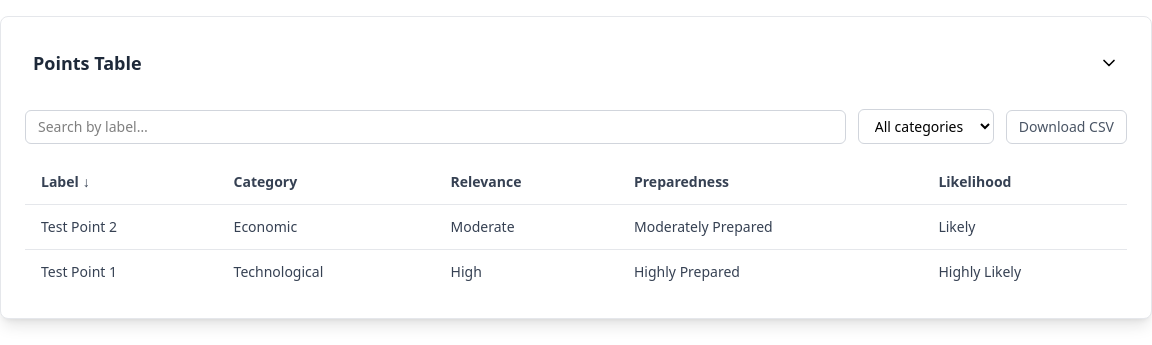
Scenario: PointsTable › Filtering › should filter rows by category
Select "Economic" in the dropdown named "Filter by category" at [926, 126], box x1=858 y1=109 x2=994 y2=144
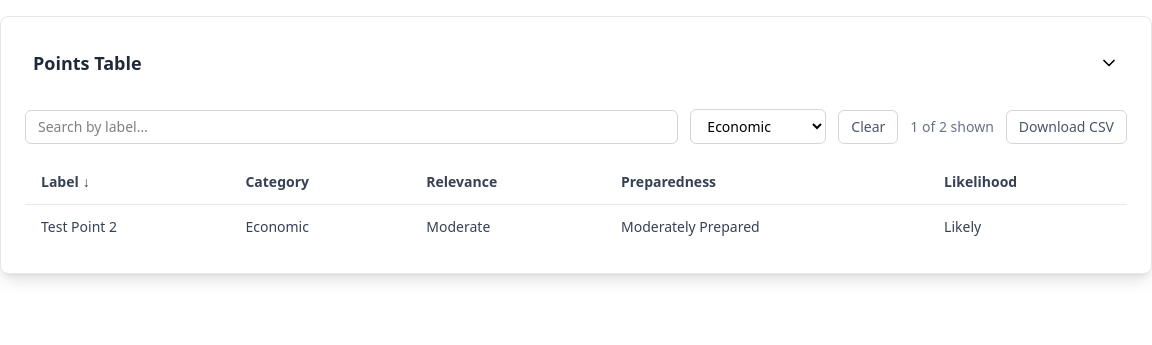
Expected: the text "Test Point 2" is shown, x1=41 y1=217 x2=117 y2=237
Expected: the text "Test Point 1" is gone
